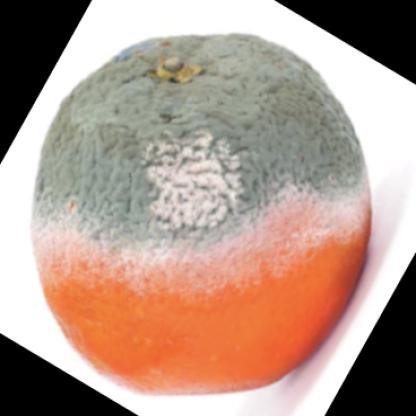rotten: (31, 34, 372, 389)
